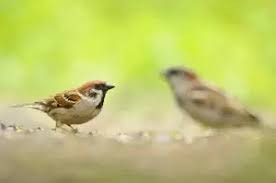home_sparrow: (153, 63, 265, 140), (6, 74, 116, 135)
